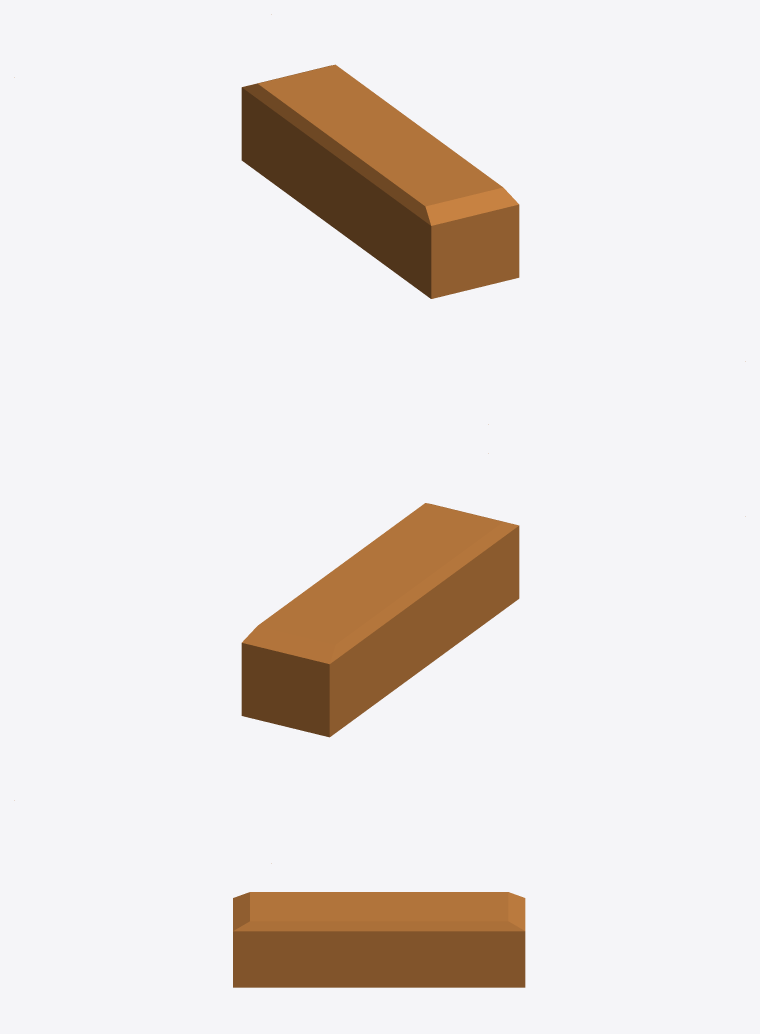
File: copper_ingot_small.glb
The picture shows the model from 3 angles, top to bottom: view 1: azimuth 30°, elevation 25°; view 2: azimuth 150°, elevation 25°; view 3: azimuth 270°, elevation 25°; orthographic projection. The views are drawn at different scales.
Visible parts, largest first — view 1: copper_ingot_small; view 2: copper_ingot_small; view 3: copper_ingot_small.
Boxes of the visible parts, x1,y1,x2,y2 form: copper_ingot_small: (14,14,745,424); copper_ingot_small: (14,453,745,863); copper_ingot_small: (233,892,525,987).
Size of the model in its own units: 0.1454 by 0.0456 by 0.4653.
